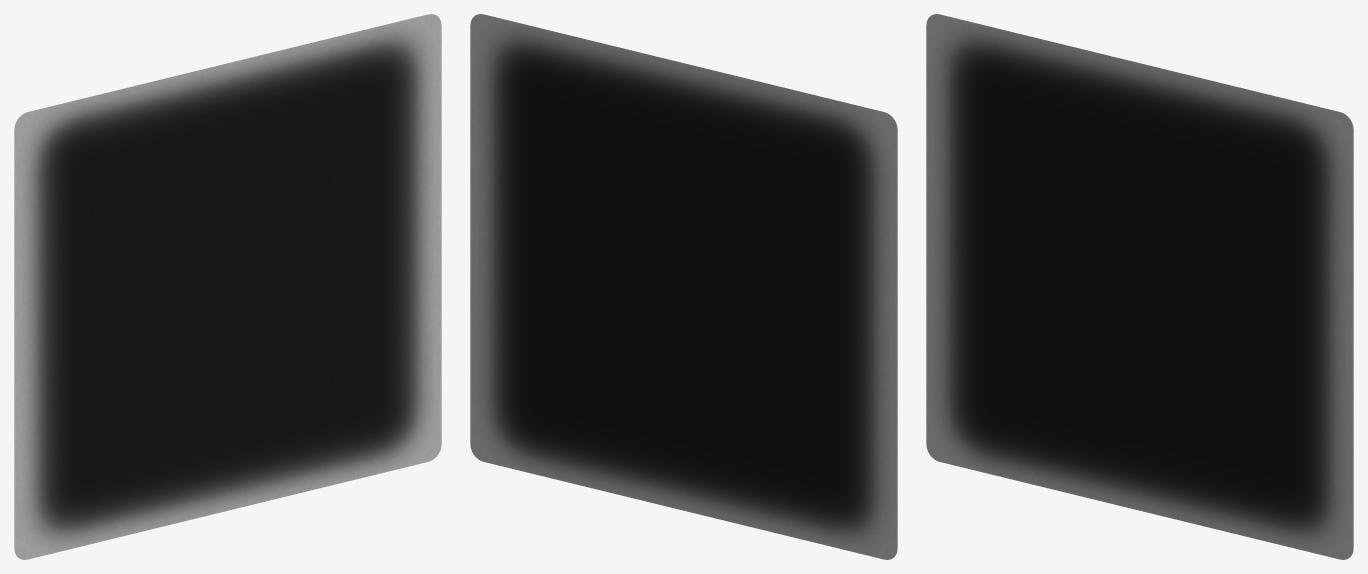
The model's file is SelectableHighlight_Small.fbx.
3 renders of one model, left to right at view 1: azimuth 30°, elevation 25°; view 2: azimuth 150°, elevation 25°; view 3: azimuth 330°, elevation 25°, orthographic.
Parts seen in each view (by area): view 1: SelectableHighlight_Small; view 2: SelectableHighlight_Small; view 3: SelectableHighlight_Small.
Boxes of the visible parts, left/top/right/bottom form: SelectableHighlight_Small: left=14, top=14, right=441, bottom=559; SelectableHighlight_Small: left=470, top=14, right=897, bottom=559; SelectableHighlight_Small: left=926, top=14, right=1353, bottom=559.
Bounding box in the file's own units: 6.4 × 6.41 × 7.77e-16.
